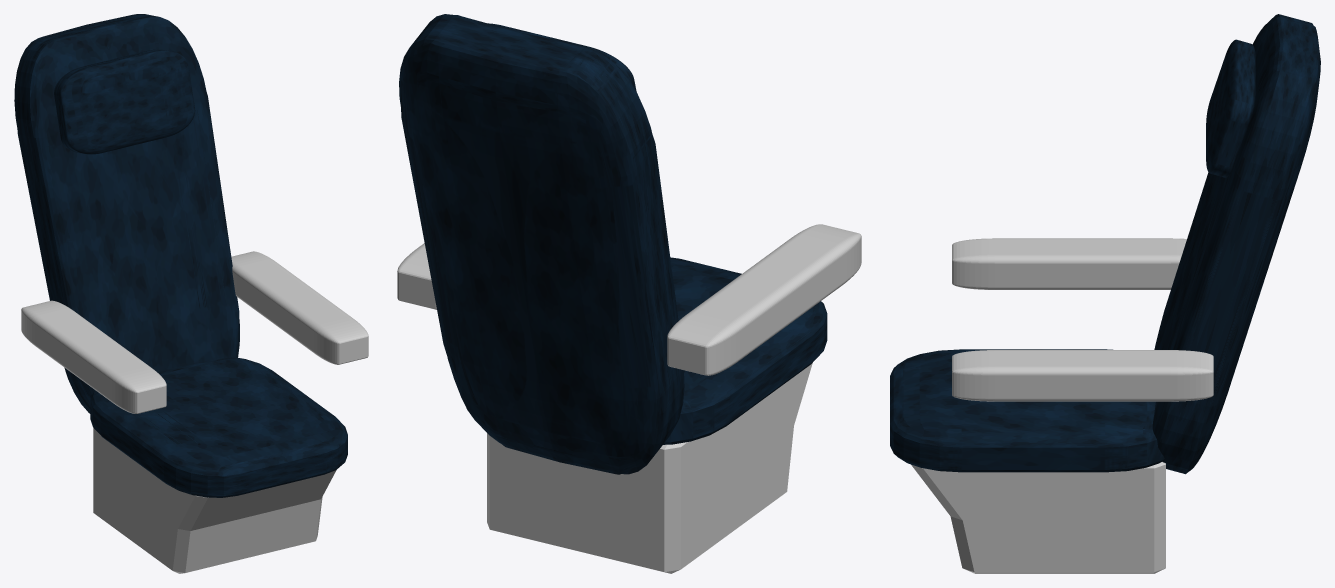
Rendered from plane_seat.fbx.
The picture shows the model from 3 angles, left to right: view 1: azimuth 30°, elevation 25°; view 2: azimuth 150°, elevation 25°; view 3: azimuth 270°, elevation 25°; orthographic projection. The views are drawn at different scales.
Parts seen in each view (by area): view 1: Seat Model, Fixador, Apoios; view 2: Seat Model, Fixador, Apoios; view 3: Seat Model, Apoios, Fixador.
Part boxes in pixels (box(x1,y1,x2,y2)): Seat Model: box(14, 14, 347, 497); Fixador: box(93, 428, 336, 573); Apoios: box(21, 251, 368, 413); Seat Model: box(399, 14, 827, 474); Fixador: box(487, 362, 812, 573); Apoios: box(397, 224, 861, 375); Seat Model: box(890, 14, 1320, 474); Apoios: box(952, 238, 1213, 401); Fixador: box(911, 462, 1165, 573).
Bounding box in the file's own units: 499 × 850 × 677.
